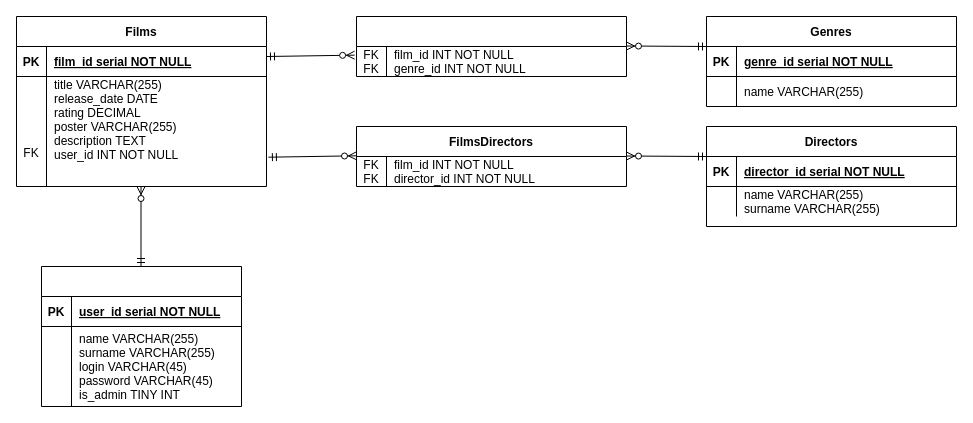
The diagram is 973 pixels wide and 423 high, and some of its shapes have lost their labels. Each missing label, with the box of its shape:
FilmsGenres: (356, 16, 626, 76)
Users: (40, 266, 242, 406)
